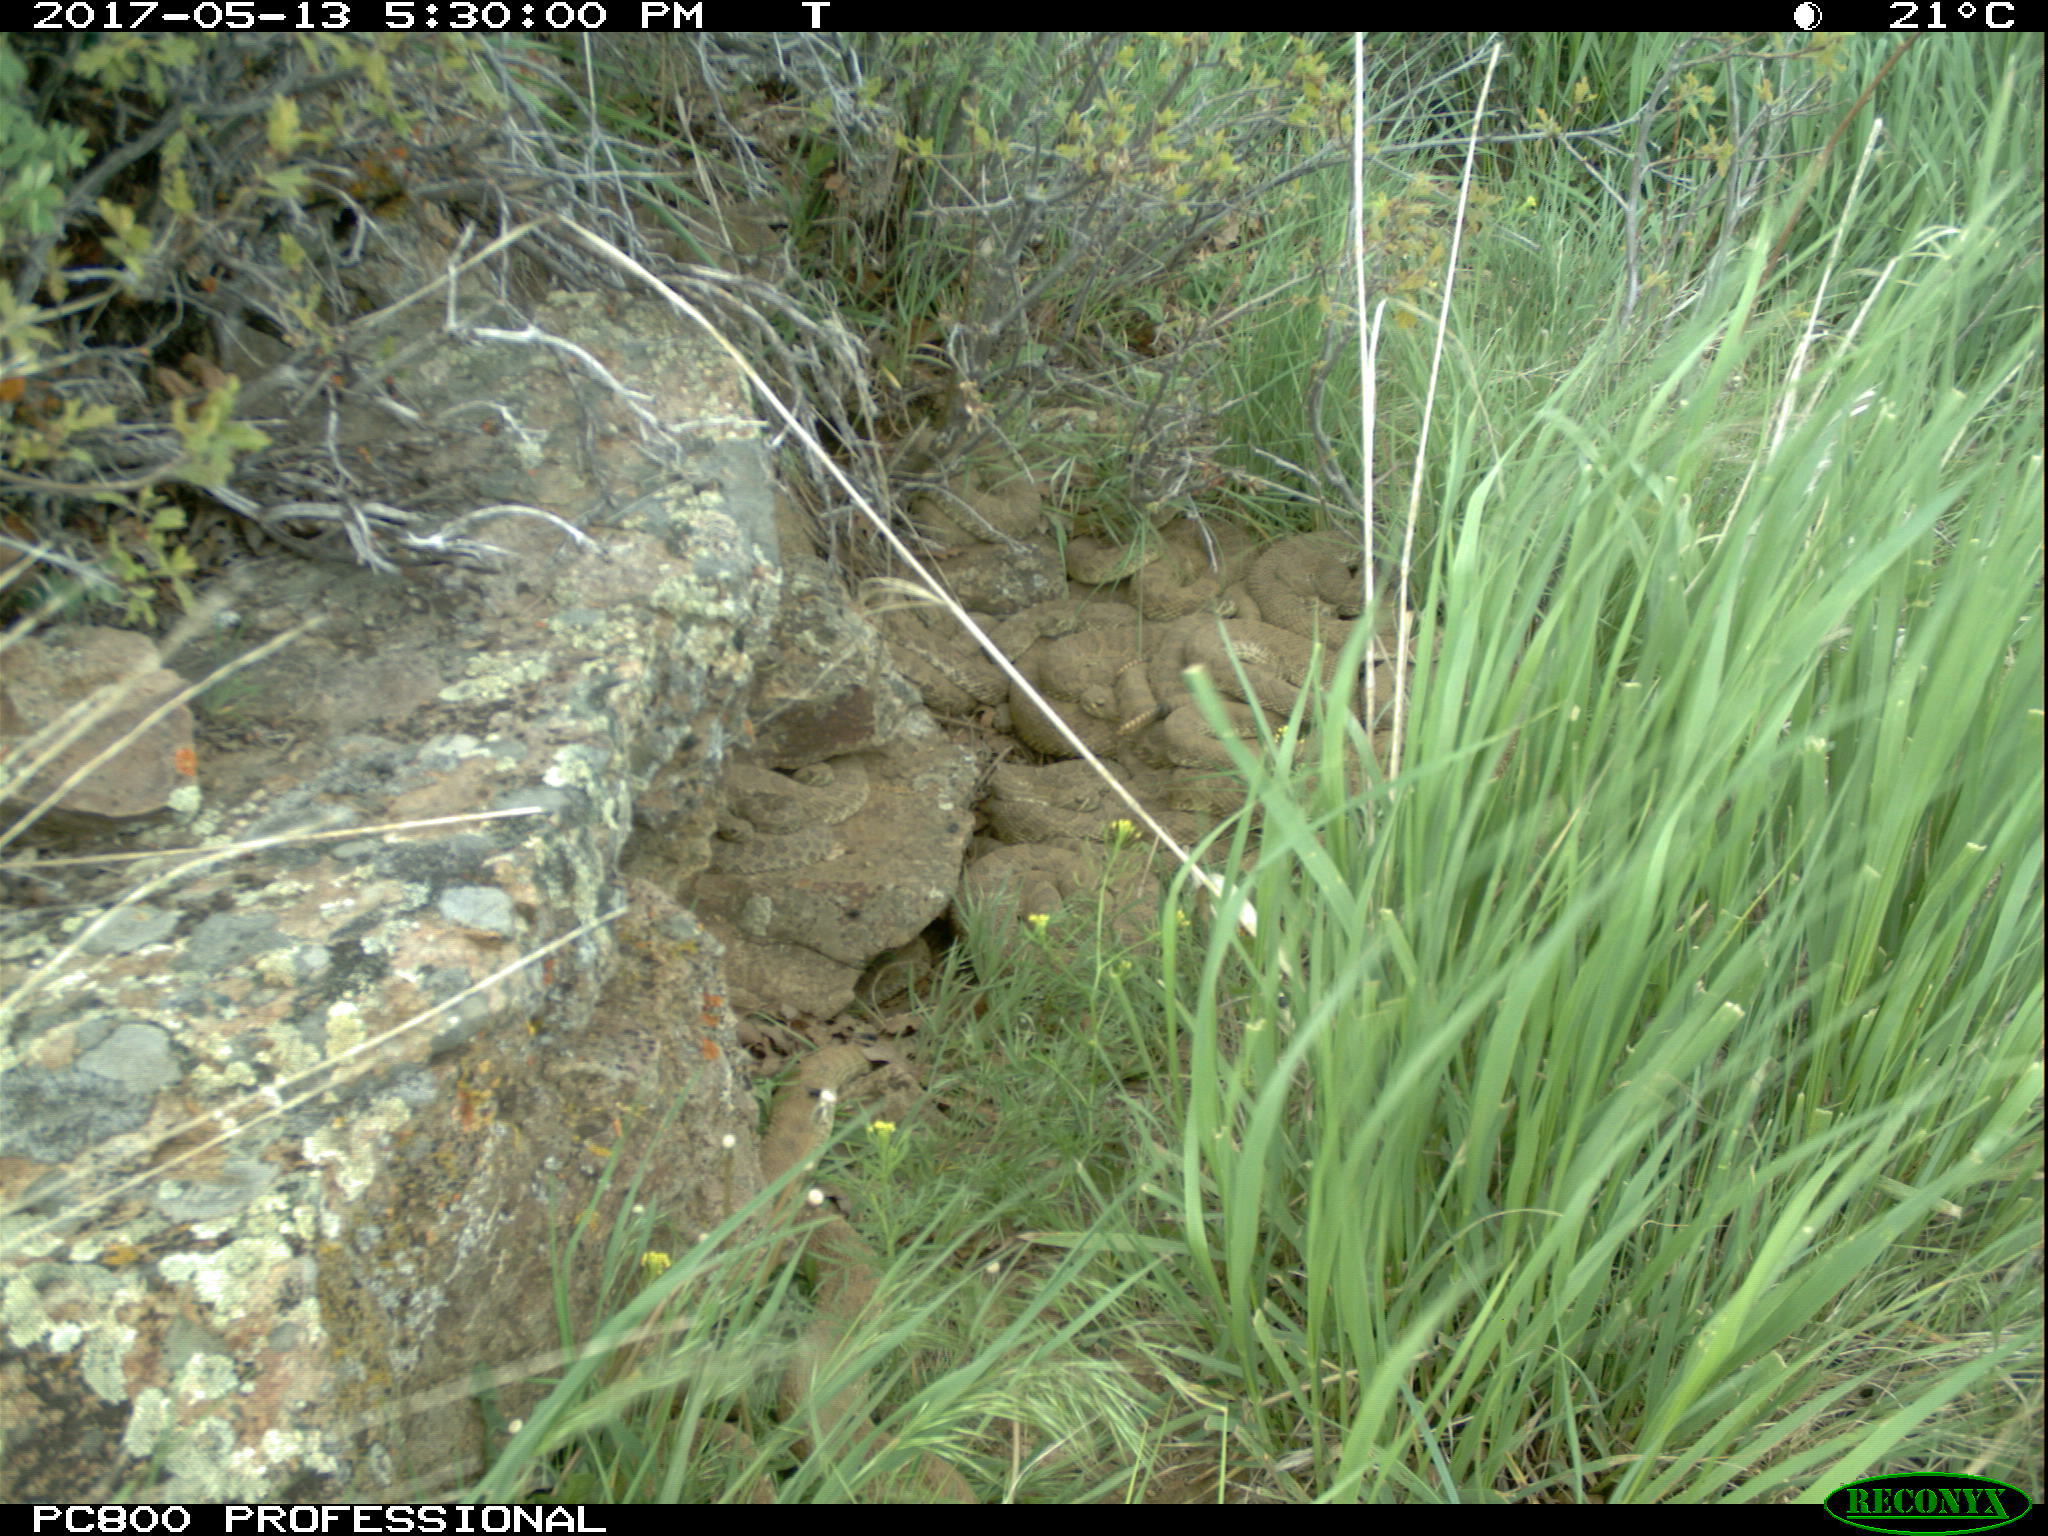snake: (780, 1221, 919, 1497), (1150, 623, 1376, 773), (951, 841, 1177, 975), (1000, 611, 1153, 757), (753, 1046, 871, 1221), (992, 766, 1164, 858), (721, 758, 863, 870), (1071, 529, 1247, 616), (880, 599, 1000, 715), (1253, 526, 1385, 629), (910, 460, 1055, 552)
